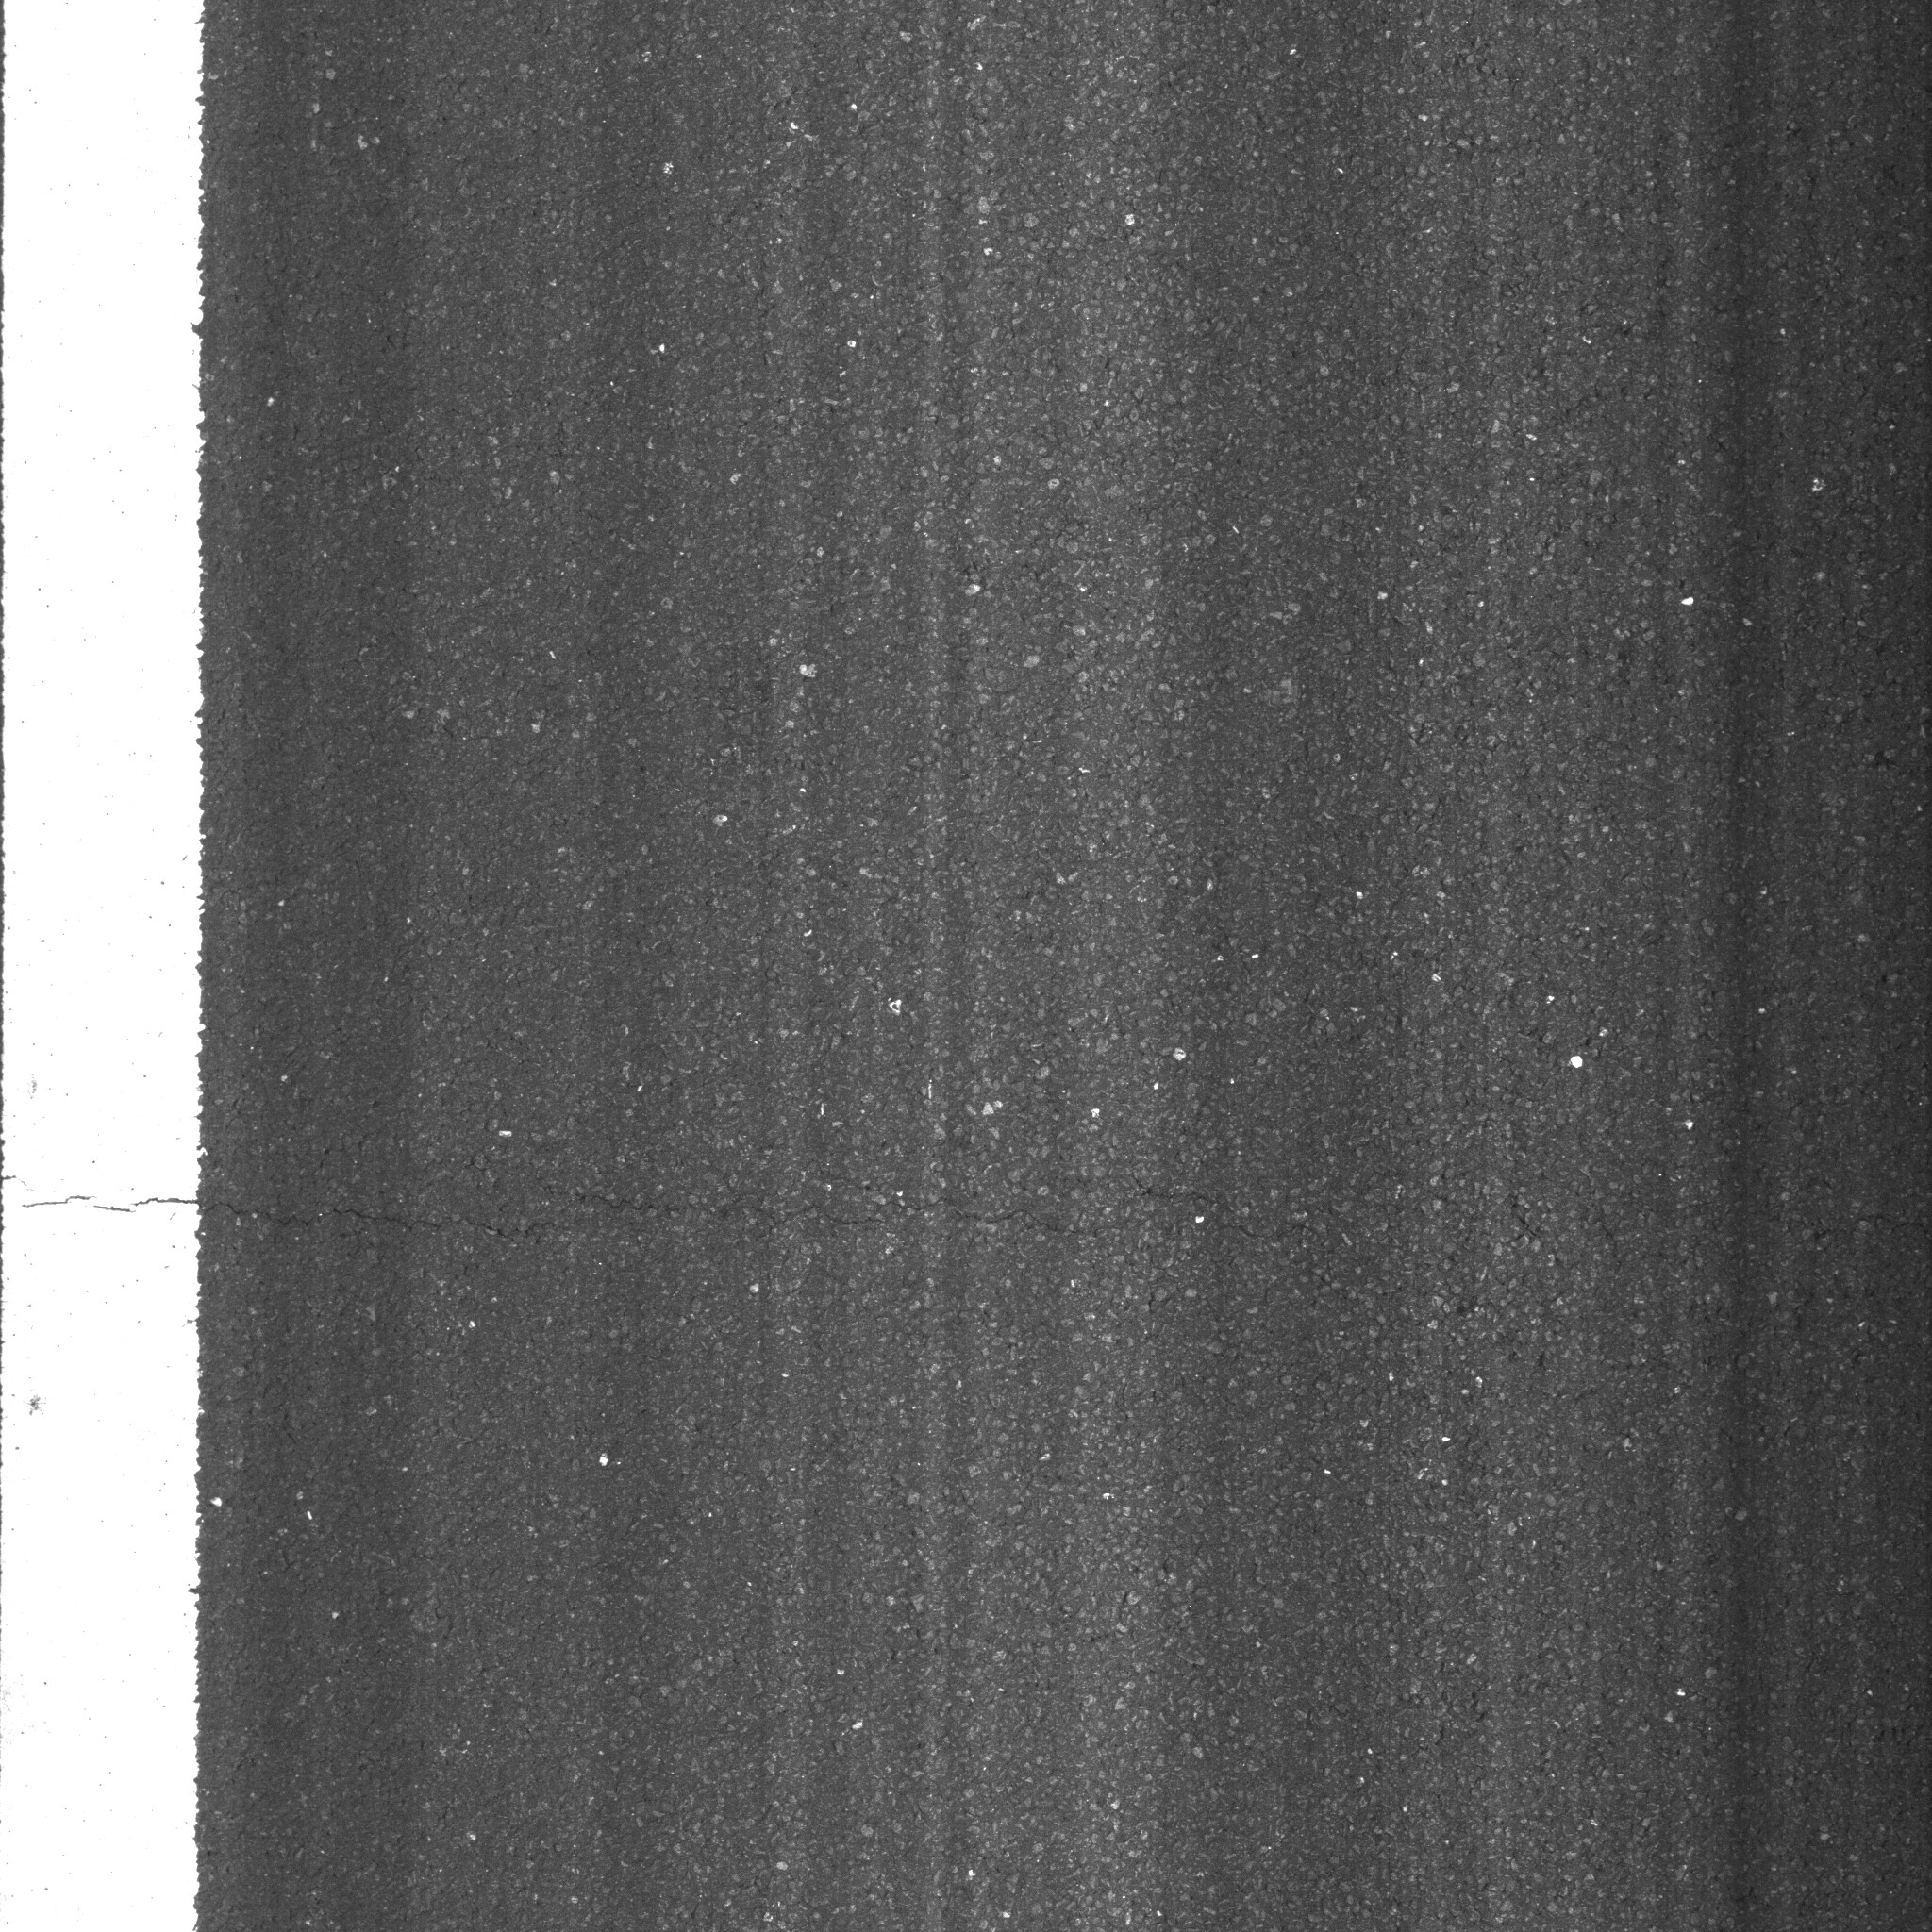transeverse: (18, 1146, 1553, 1253)
